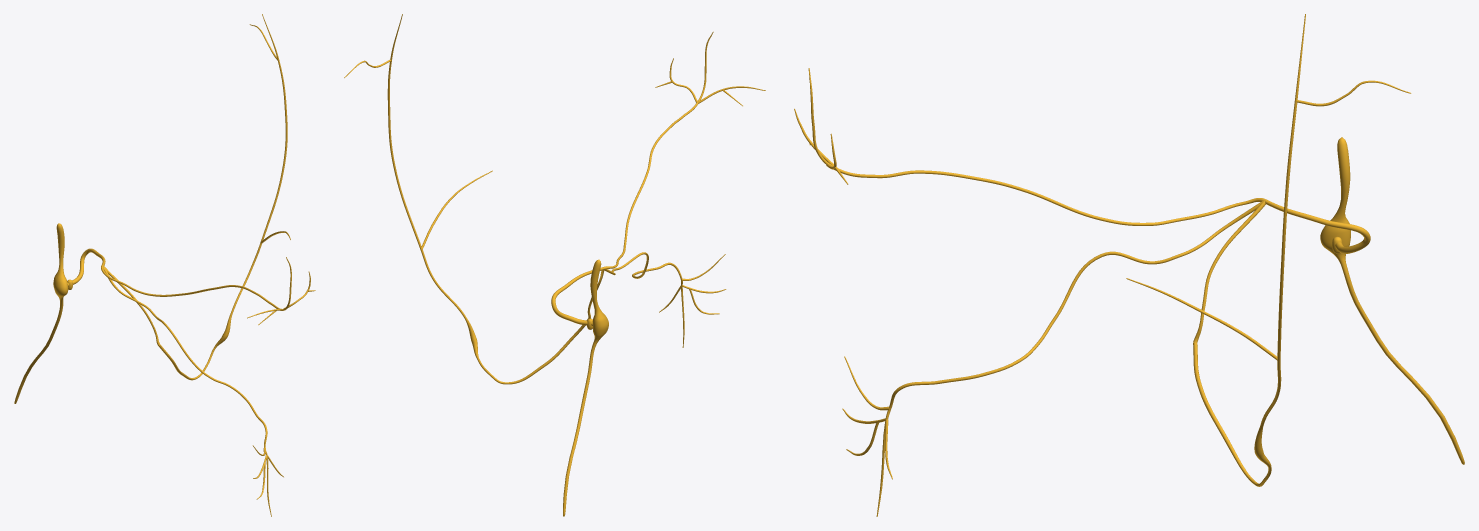
The model's file is nervoso-trigeminal-nerve-v-l.glb.
3 renders of one model, left to right at view 1: azimuth 30°, elevation 25°; view 2: azimuth 150°, elevation 25°; view 3: azimuth 270°, elevation 25°, orthographic. The views are drawn at different scales.
Visible parts, largest first — view 1: Meningeal branch of maxillary nerve.l, Sensory root of trigeminal nerve.l, Maxillary nerve.l, Ophthalmic nerve.l, Trigeminal nerve (V).l; view 2: Meningeal branch of maxillary nerve.l, Sensory root of trigeminal nerve.l, Ophthalmic nerve.l, Maxillary nerve.l, Trigeminal nerve (V).l; view 3: Meningeal branch of maxillary nerve.l, Sensory root of trigeminal nerve.l, Maxillary nerve.l, Ophthalmic nerve.l, Trigeminal nerve (V).l.
Part boxes in pixels (x1,y1,x2,y2): Meningeal branch of maxillary nerve.l: (158, 14, 290, 380); Sensory root of trigeminal nerve.l: (14, 223, 68, 403); Maxillary nerve.l: (103, 266, 283, 516); Ophthalmic nerve.l: (101, 257, 315, 325); Trigeminal nerve (V).l: (67, 248, 160, 345); Meningeal branch of maxillary nerve.l: (344, 14, 587, 384); Sensory root of trigeminal nerve.l: (563, 259, 608, 516); Ophthalmic nerve.l: (603, 31, 765, 269); Maxillary nerve.l: (604, 252, 726, 347); Trigeminal nerve (V).l: (551, 267, 604, 325); Meningeal branch of maxillary nerve.l: (1126, 14, 1411, 486); Sensory root of trigeminal nerve.l: (1320, 137, 1464, 464); Maxillary nerve.l: (842, 201, 1263, 516); Ophthalmic nerve.l: (794, 68, 1265, 225); Trigeminal nerve (V).l: (1193, 199, 1370, 342).
Size of the model in its own units: 0.0739 by 0.1216 by 0.1221.
